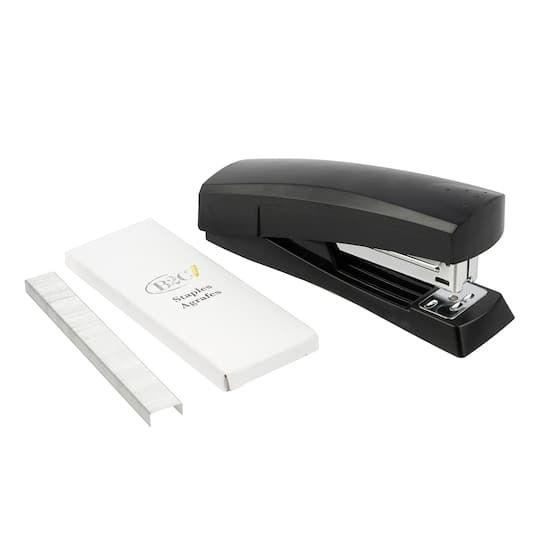Stapler: (190, 87, 537, 379)
